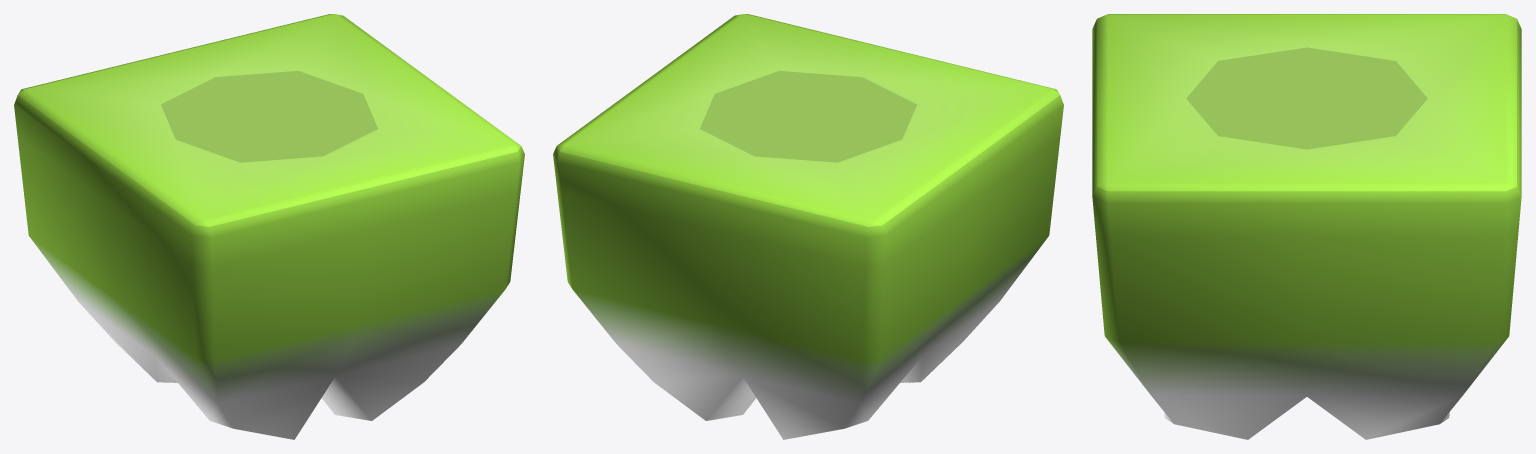
File: Square_Islandd_DirtPatch.fbx
The picture shows the model from 3 angles, left to right: view 1: azimuth 30°, elevation 25°; view 2: azimuth 150°, elevation 25°; view 3: azimuth 270°, elevation 25°; orthographic projection. The views are drawn at different scales.
Parts seen in each view (by area): view 1: Plane.021; view 2: Plane.021; view 3: Plane.021.
Part boxes in pixels (x1,y1,x2,y2): Plane.021: (14, 14, 524, 439); Plane.021: (553, 14, 1063, 439); Plane.021: (1092, 14, 1521, 439).
Bounding box in the file's own units: 2700 × 2190 × 2700.
